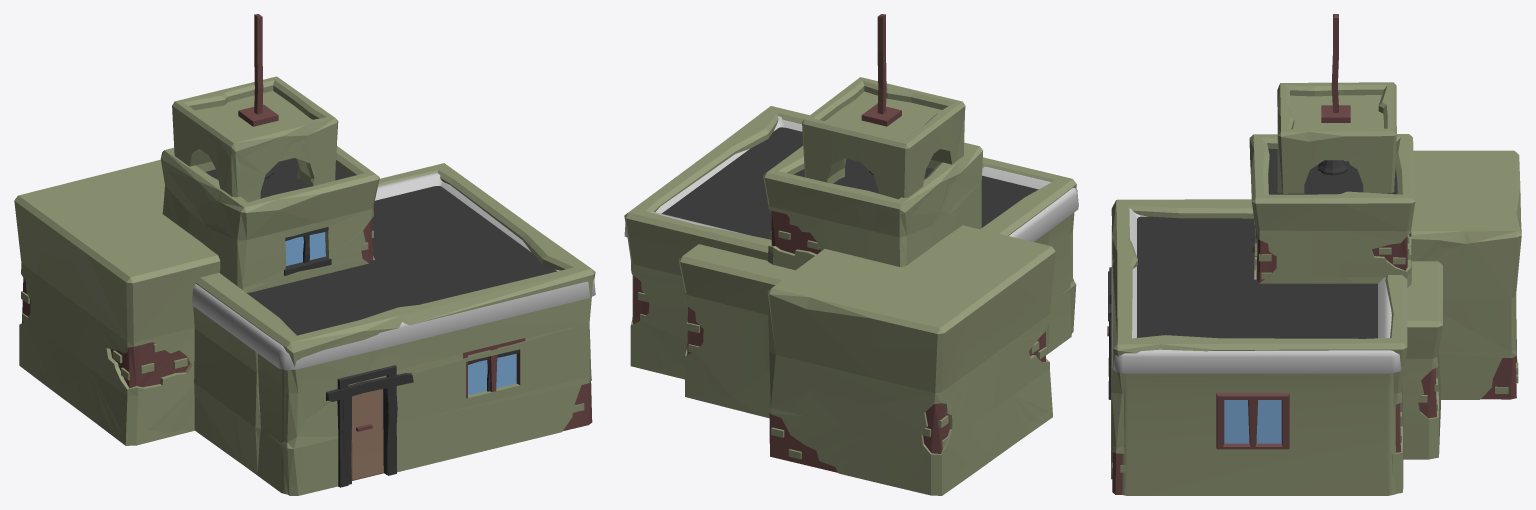
Rendered from House1.fbx.
The picture shows the model from 3 angles, left to right: view 1: azimuth 30°, elevation 25°; view 2: azimuth 150°, elevation 25°; view 3: azimuth 270°, elevation 25°; orthographic projection.
Visible parts, largest first — view 1: HouseE_1, HouseD_1, HouseF_1, HouseC_1, HouseB_1; view 2: HouseD_1, HouseC_1, HouseE_1, HouseF_1; view 3: HouseF_1, HouseD_1, HouseE_1, HouseC_1.
Boxes of the visible parts, box(x1,y1,x2,y2) form: HouseE_1: box(196, 163, 595, 495); HouseD_1: box(14, 146, 379, 445); HouseF_1: box(191, 172, 595, 494); HouseC_1: box(172, 14, 338, 446); HouseB_1: box(192, 296, 260, 474); HouseD_1: box(763, 142, 1055, 495); HouseC_1: box(678, 14, 965, 418); HouseE_1: box(624, 106, 1076, 379); HouseF_1: box(624, 116, 1078, 355); HouseF_1: box(1107, 208, 1401, 495); HouseD_1: box(1249, 134, 1521, 399); HouseE_1: box(1108, 199, 1407, 494); HouseC_1: box(1277, 14, 1442, 459).
Bounding box in the file's own units: 9.36 × 8.9 × 8.96.
